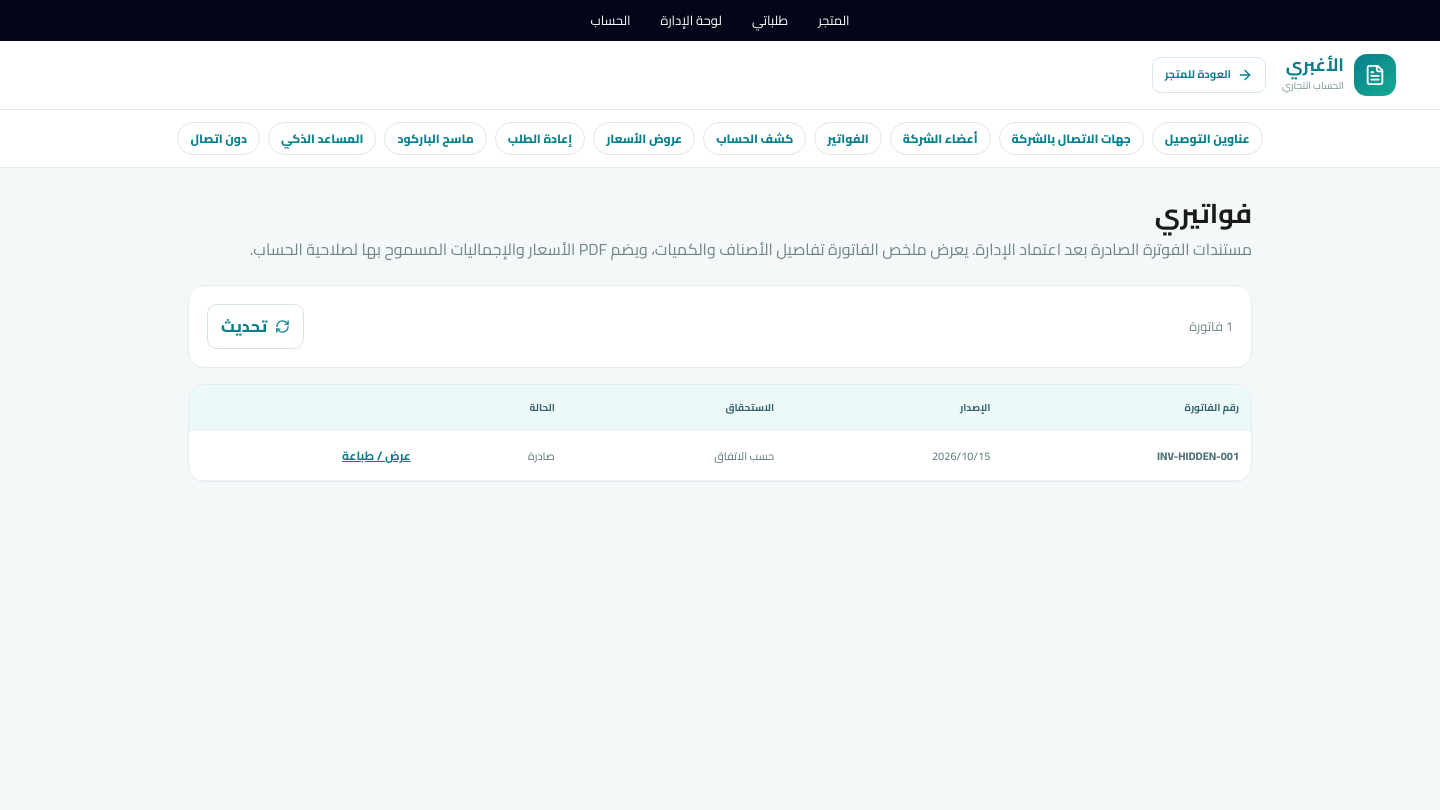
Scenario: customer quote workspace tenant boundary › omits invoice price columns and totals when the server hides invoice financial details
Click the button "عرض / طباعة" at [376, 456], box [342,444,411,467]
(page scrolled)
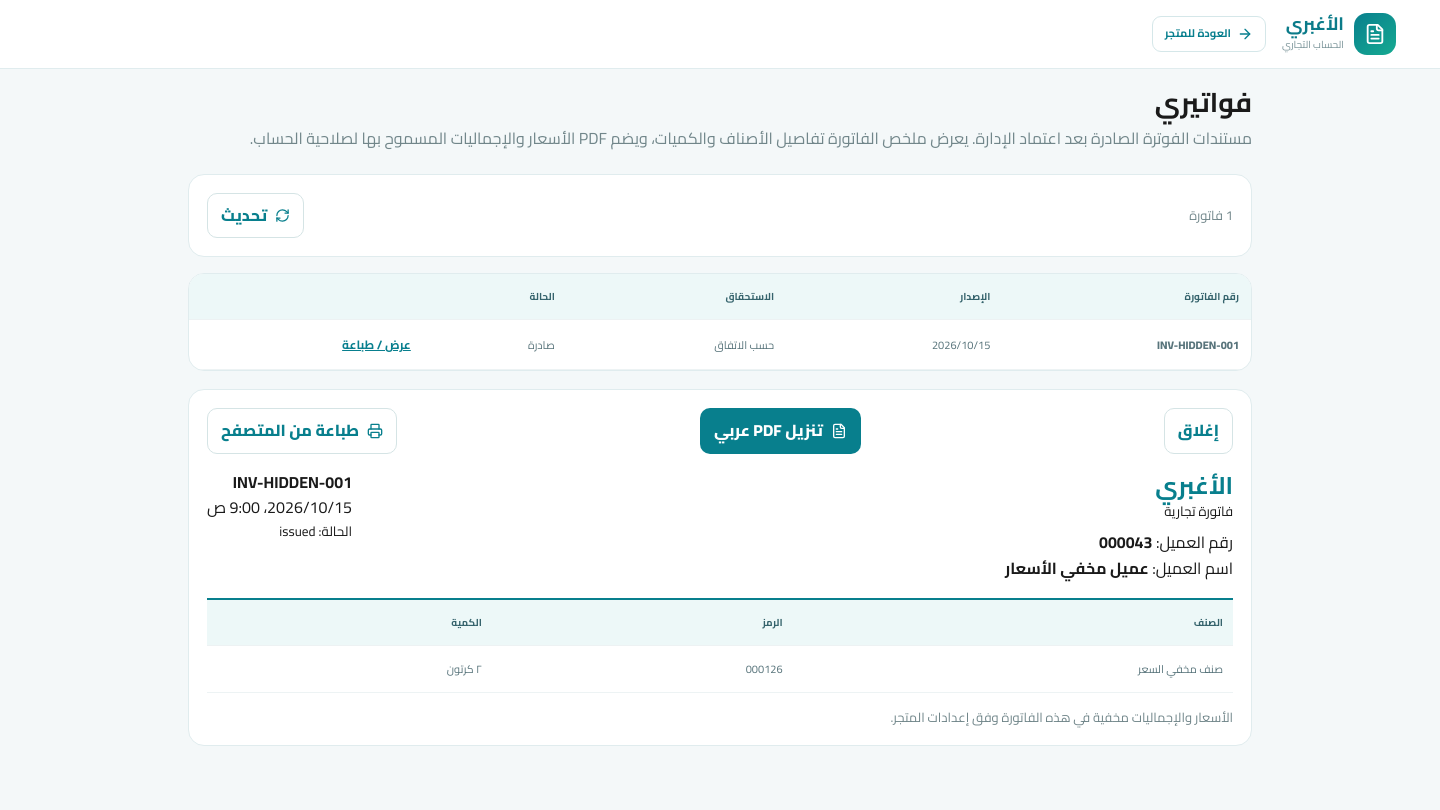
Expected: the message with test id "invoice-prices-hidden" shows "مخفية", [890,704,1233,728]
Expected: the text "صنف مخفي السعر" is shown, [801,645,1233,692]
